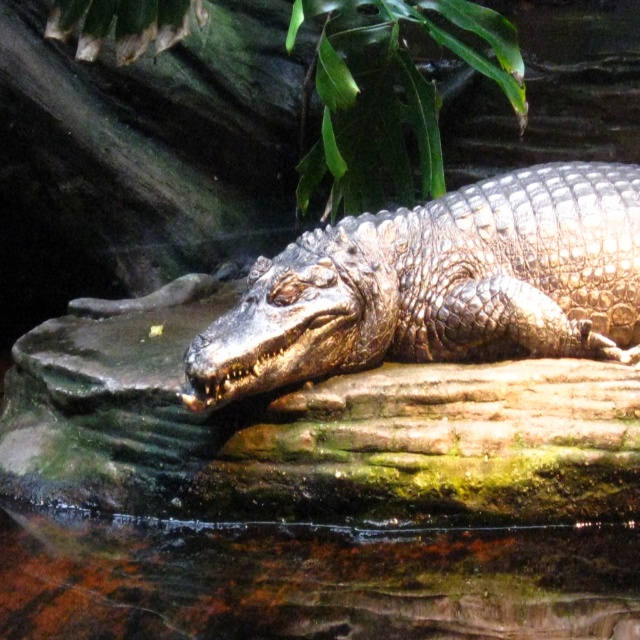Crocodile: (176, 161, 640, 414)
